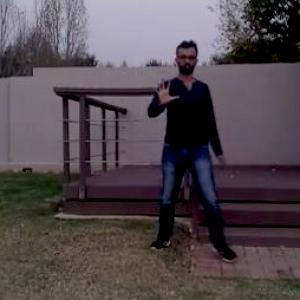follow_hand: (150, 73, 182, 110)
